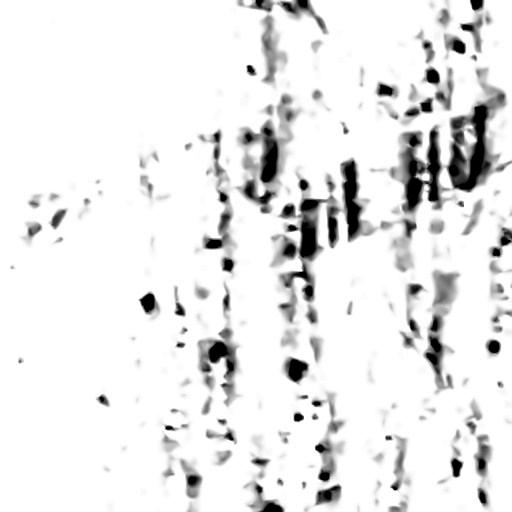egg: (407, 178, 421, 205), (289, 359, 305, 380), (209, 342, 225, 362), (140, 293, 154, 312), (452, 458, 461, 476), (470, 0, 482, 9)
